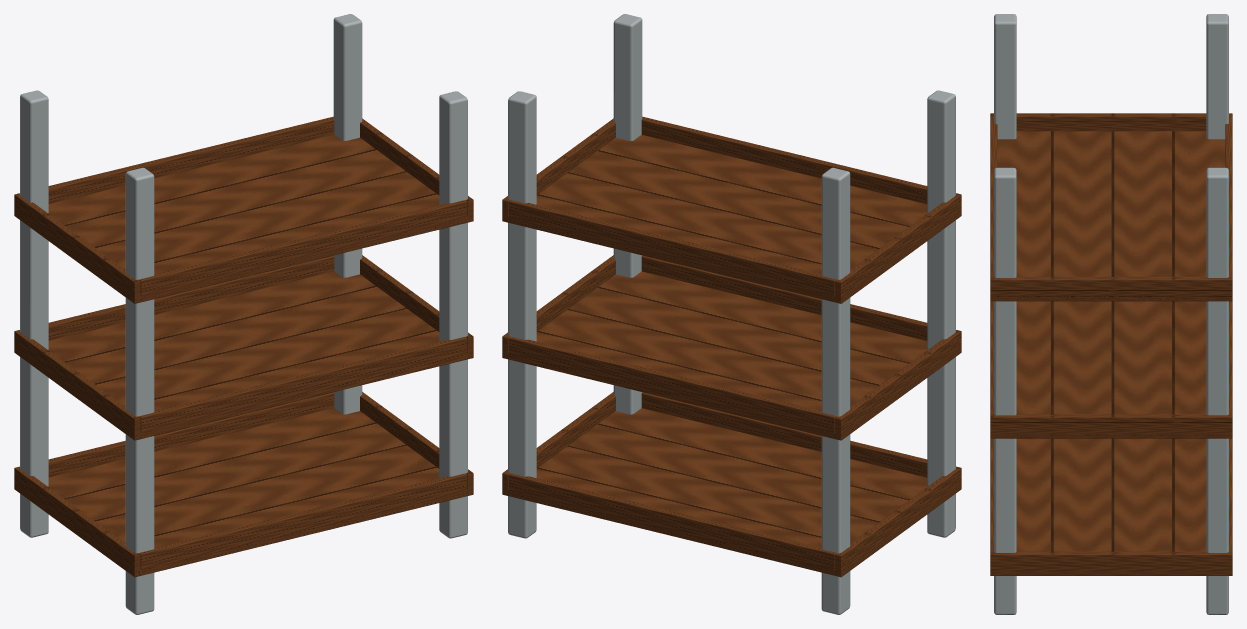
3 views of the same model, side by side, from view 1: azimuth 30°, elevation 25°; view 2: azimuth 150°, elevation 25°; view 3: azimuth 270°, elevation 25° (orthographic).
Visible parts, largest first — view 1: parcel-check-shelf; view 2: parcel-check-shelf; view 3: parcel-check-shelf.
Part boxes in pixels (left/top/right/bottom): parcel-check-shelf: left=14, top=14, right=473, bottom=614; parcel-check-shelf: left=502, top=14, right=961, bottom=614; parcel-check-shelf: left=990, top=14, right=1232, bottom=614.
Size of the model in its own units: 1.3 by 1.6 by 0.8001.
Materials: 2 (1 with a texture image).
